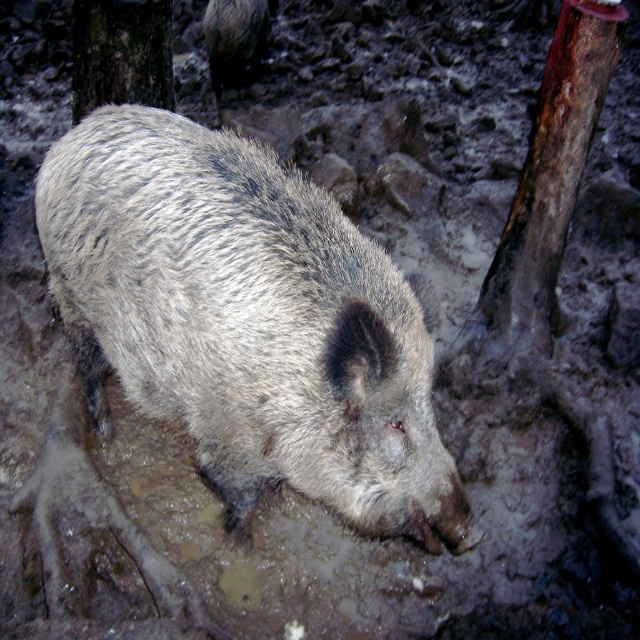Pig: (31, 100, 484, 562)
